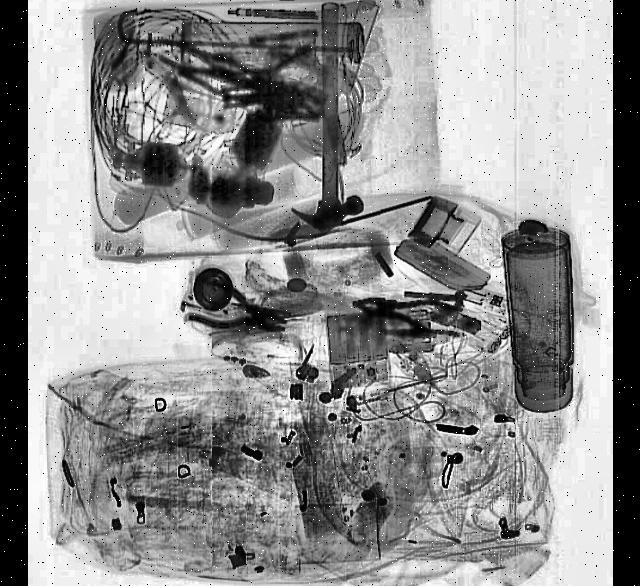Pliers: (185, 276, 291, 350), (348, 282, 464, 346)
